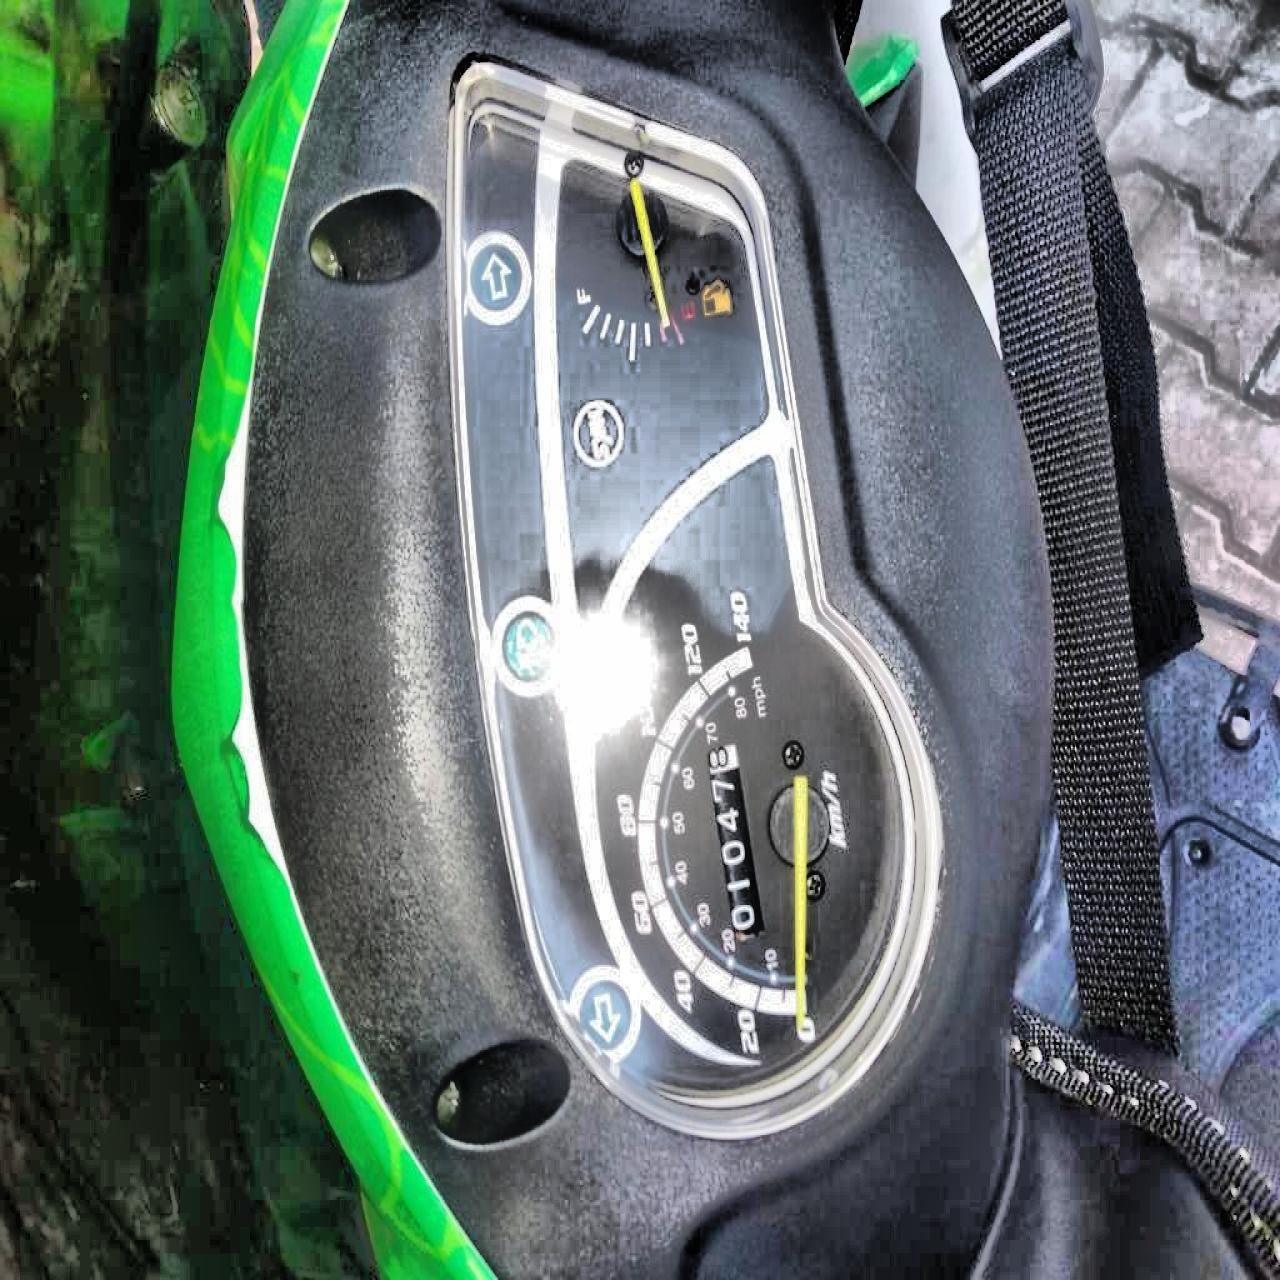0: (717, 837, 747, 866), (728, 901, 756, 931), (719, 927, 734, 940)
1: (722, 873, 751, 894)
4: (713, 803, 742, 833)
7: (707, 777, 735, 803)
8: (704, 742, 729, 770)
odometer: (702, 738, 768, 945)
